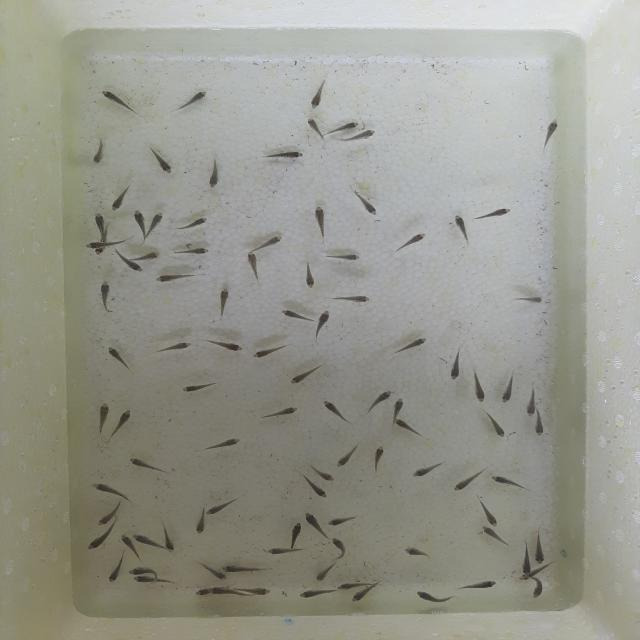fingerling: (532, 118, 566, 151), (472, 496, 503, 526), (196, 436, 242, 456), (98, 88, 136, 112), (145, 144, 174, 174), (308, 77, 333, 111), (175, 89, 209, 113), (104, 346, 133, 374), (350, 189, 380, 215), (112, 248, 142, 274), (311, 306, 334, 339), (288, 366, 330, 384), (110, 408, 137, 436), (483, 412, 509, 441), (206, 156, 228, 189), (396, 336, 429, 358), (260, 403, 300, 421), (499, 371, 520, 405), (310, 204, 330, 239), (91, 480, 126, 500), (457, 579, 499, 595), (323, 399, 352, 422), (396, 418, 428, 438), (362, 388, 394, 408), (299, 262, 320, 292), (96, 504, 126, 525), (217, 562, 269, 574), (478, 523, 505, 546), (490, 475, 528, 491), (180, 381, 220, 396), (446, 352, 466, 382), (480, 206, 513, 224), (399, 232, 432, 250), (275, 308, 312, 324), (348, 585, 379, 604), (412, 463, 451, 478), (328, 294, 376, 306), (334, 444, 358, 468), (206, 499, 242, 515), (156, 271, 200, 284), (88, 528, 114, 550), (245, 250, 264, 280), (93, 278, 114, 305), (511, 291, 544, 308), (304, 510, 324, 538), (200, 339, 246, 351), (172, 247, 211, 261), (248, 345, 286, 359), (157, 526, 180, 549), (329, 534, 350, 559), (370, 446, 388, 475), (154, 341, 191, 355), (239, 583, 276, 597), (180, 215, 210, 232), (92, 398, 110, 426), (453, 214, 468, 247), (262, 545, 307, 556), (302, 482, 331, 499), (129, 458, 164, 472), (264, 150, 304, 162), (520, 388, 536, 418), (417, 590, 457, 602), (108, 186, 125, 214), (308, 117, 326, 143), (107, 560, 125, 586), (131, 533, 164, 547), (132, 576, 174, 587), (527, 578, 550, 598), (213, 287, 230, 314), (456, 471, 480, 490), (313, 564, 338, 582), (258, 233, 284, 250), (89, 210, 106, 236), (200, 564, 226, 581), (298, 586, 329, 600), (288, 522, 306, 546), (117, 534, 137, 555), (352, 128, 378, 144), (313, 469, 342, 483), (192, 516, 210, 538), (326, 252, 365, 262), (400, 544, 430, 557), (150, 210, 166, 234), (532, 534, 544, 566), (534, 417, 550, 440), (335, 120, 361, 134), (390, 396, 404, 422), (473, 376, 486, 403), (131, 211, 146, 234), (134, 250, 161, 262), (90, 143, 104, 166), (210, 586, 242, 596), (325, 515, 353, 526), (520, 546, 530, 575), (128, 564, 156, 574), (81, 241, 126, 247), (336, 580, 369, 588), (90, 249, 110, 257), (193, 588, 209, 597)
